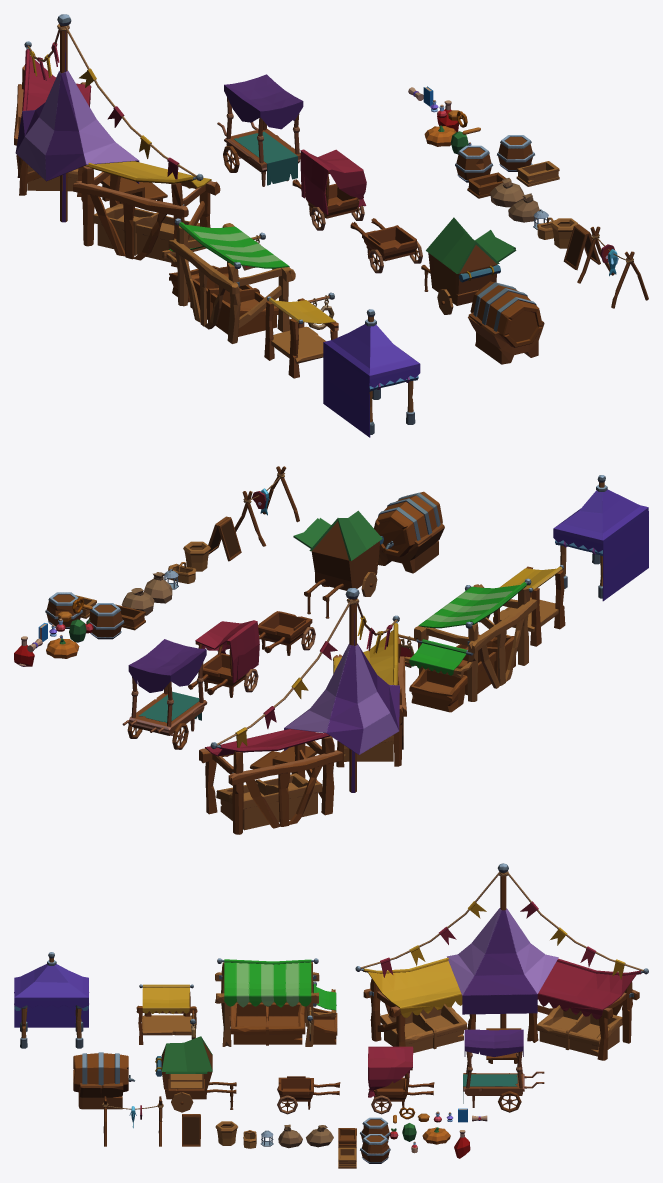
Rendered from Market.fbx.
The picture shows the model from 3 angles, top to bottom: view 1: azimuth 30°, elevation 25°; view 2: azimuth 150°, elevation 25°; view 3: azimuth 270°, elevation 25°; orthographic projection. The views are drawn at different scales.
Parts seen in each view (by area): view 1: tent04, tent03, tent01, cart04, cart01, barrel01, cart03, tent02, cart02, misc013, misc012, misc01 (+5 smaller); view 2: tent04, tent03, tent01, cart04, cart01, barrel01, cart03, tent02, cart02, misc012, misc04, misc01 (+5 smaller); view 3: tent04, tent03, tent01, cart04, cart01, barrel01, tent02, cart03, cart02, misc013, misc04, misc012 (+2 smaller).
Part boxes in pixels (left/top/right/bottom): tent04: left=14, top=14, right=220, bottom=267; tent03: left=162, top=218, right=295, bottom=343; tent01: left=323, top=309, right=420, bottom=437; cart04: left=217, top=74, right=303, bottom=186; cart01: left=421, top=217, right=516, bottom=314; barrel01: left=468, top=281, right=544, bottom=364; cart03: left=292, top=149, right=366, bottom=230; tent02: left=264, top=292, right=338, bottom=378; cart02: left=350, top=218, right=422, bottom=273; misc013: left=497, top=135, right=534, bottom=171; misc012: left=455, top=145, right=493, bottom=182; misc01: left=577, top=226, right=648, bottom=308; tent04: left=199, top=588, right=406, bottom=834; tent03: left=391, top=578, right=537, bottom=712; tent01: left=553, top=475, right=648, bottom=601; cart04: left=122, top=639, right=207, bottom=749; cart01: left=293, top=510, right=383, bottom=618; barrel01: left=374, top=491, right=444, bottom=573; cart03: left=188, top=620, right=259, bottom=697; tent02: left=465, top=565, right=565, bottom=646; cart02: left=258, top=611, right=315, bottom=655; misc012: left=87, top=603, right=124, bottom=639; misc04: left=208, top=516, right=241, bottom=561; misc01: left=234, top=466, right=299, bottom=546; tent04: left=355, top=863, right=648, bottom=1063; tent03: left=215, top=958, right=337, bottom=1046; tent01: left=14, top=952, right=89, bottom=1048; cart04: left=463, top=1029, right=544, bottom=1112; cart01: left=155, top=1036, right=236, bottom=1112; barrel01: left=73, top=1052, right=135, bottom=1109; tent02: left=136, top=984, right=197, bottom=1044; cart03: left=368, top=1046, right=434, bottom=1114; cart02: left=277, top=1076, right=340, bottom=1114; misc013: left=360, top=1134, right=390, bottom=1163; misc04: left=182, top=1114, right=200, bottom=1146; misc012: left=360, top=1117, right=390, bottom=1142.
Bounding box in the file's own units: 22.39 × 10.35 × 35.81.
